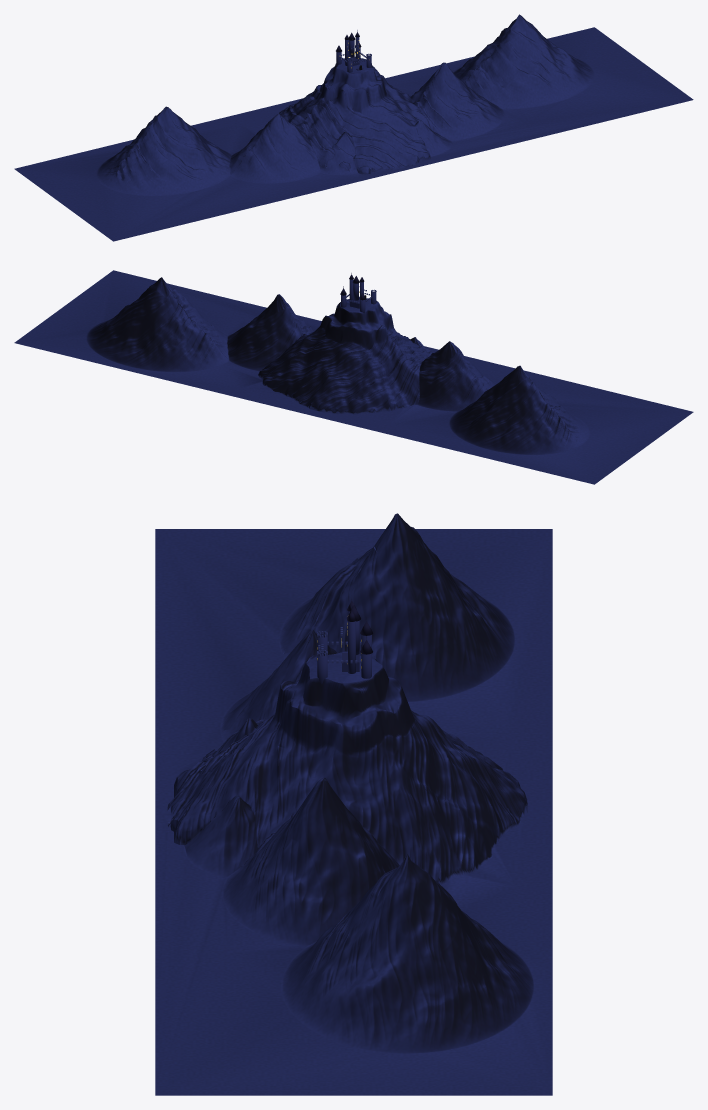
The model's file is backdrop.glb.
3 views of the same model, one above another, from view 1: azimuth 30°, elevation 25°; view 2: azimuth 150°, elevation 25°; view 3: azimuth 270°, elevation 25° (orthographic). The views are drawn at different scales.
Parts seen in each view (by area): view 1: terrain, backdrop; view 2: terrain, backdrop; view 3: terrain, backdrop.
Boxes of the visible parts, left/top/right/bottom form: terrain: left=14, top=14, right=693, bottom=241; backdrop: left=336, top=30, right=371, bottom=72; terrain: left=14, top=270, right=693, bottom=484; backdrop: left=340, top=273, right=376, bottom=313; terrain: left=155, top=513, right=552, bottom=1095; backdrop: left=317, top=596, right=372, bottom=684.
Size of the model in its own units: 255 by 44.5 by 75.6.
2 materials, 2 textured.
